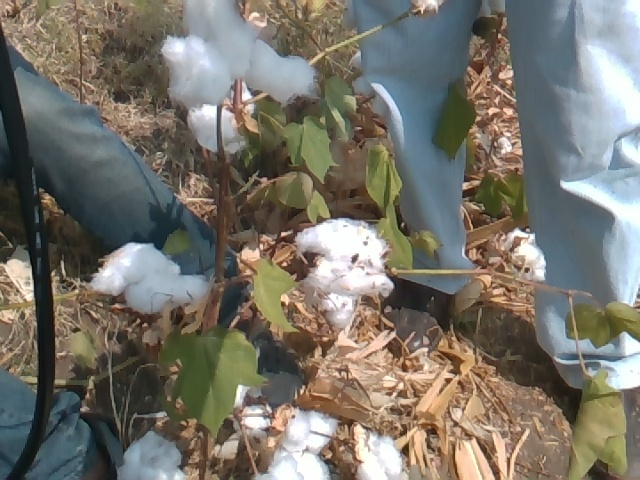cotton: (150, 1, 323, 99), (292, 211, 393, 328), (93, 239, 214, 321), (254, 411, 347, 478), (183, 75, 256, 158), (487, 223, 554, 298), (108, 428, 200, 478), (213, 376, 273, 446), (339, 422, 412, 476)
